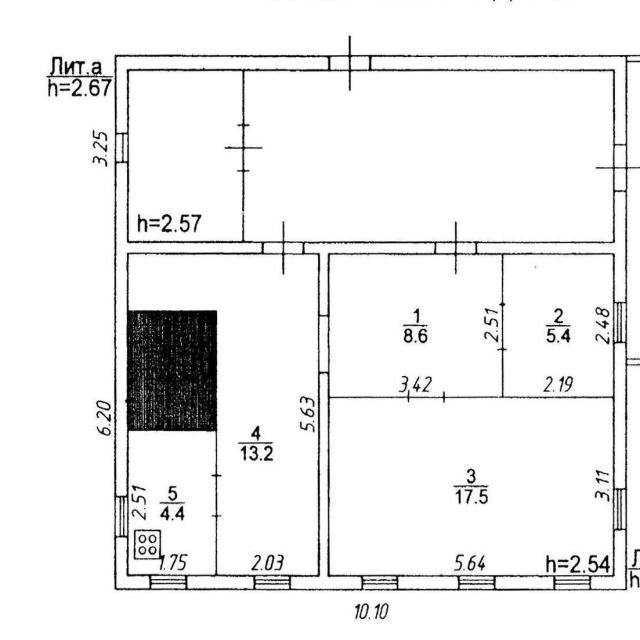Corridors: (129, 255, 318, 575)
Doors: (327, 33, 371, 94), (263, 220, 304, 278), (435, 220, 477, 276), (220, 123, 264, 174), (595, 144, 640, 192), (495, 301, 510, 352), (406, 387, 448, 405), (209, 473, 223, 519), (318, 315, 329, 373)
LBwalls: (114, 163, 263, 496), (370, 54, 627, 145), (114, 54, 329, 133), (477, 191, 628, 302), (291, 372, 362, 591), (303, 241, 436, 316), (592, 531, 627, 591), (613, 343, 627, 489), (114, 537, 150, 590), (188, 574, 254, 591), (399, 574, 458, 591), (495, 574, 553, 591)
Offices: (245, 72, 613, 241), (329, 399, 613, 575), (330, 254, 501, 396), (129, 71, 241, 240), (504, 255, 613, 396), (129, 431, 216, 573)
Walls: (446, 351, 614, 399), (241, 172, 245, 242), (329, 396, 407, 399), (242, 71, 245, 123), (215, 519, 217, 575), (626, 358, 640, 366), (626, 55, 640, 62), (501, 254, 503, 301), (215, 431, 217, 473)
Windows: (458, 574, 496, 591), (361, 574, 398, 591), (613, 487, 627, 531), (553, 574, 591, 590), (149, 574, 187, 590), (114, 495, 128, 538), (254, 574, 291, 590), (613, 301, 627, 343), (115, 133, 129, 164)
